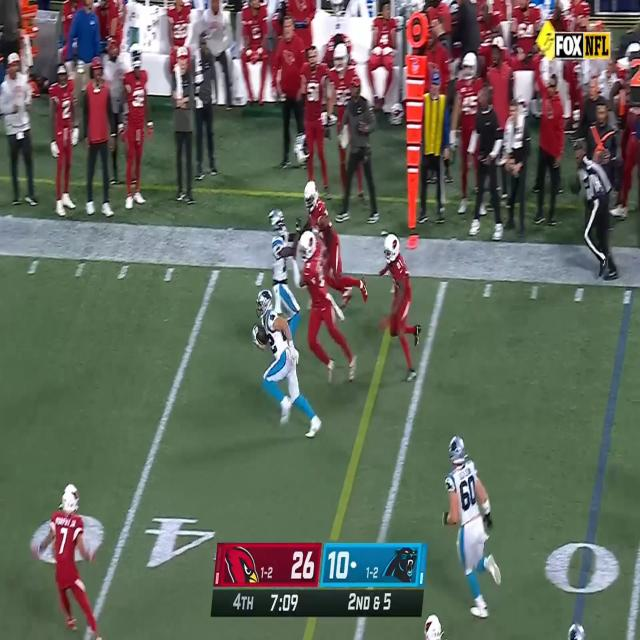football: (255, 325, 268, 347)
players: (251, 290, 322, 444), (442, 436, 502, 616), (39, 484, 103, 640), (299, 233, 359, 389), (378, 232, 425, 383), (301, 183, 355, 310), (298, 48, 332, 198), (331, 43, 362, 205), (122, 45, 150, 212), (453, 51, 482, 211), (269, 210, 301, 346), (49, 64, 76, 218), (242, 0, 269, 102), (372, 3, 399, 105), (165, 0, 186, 58)
